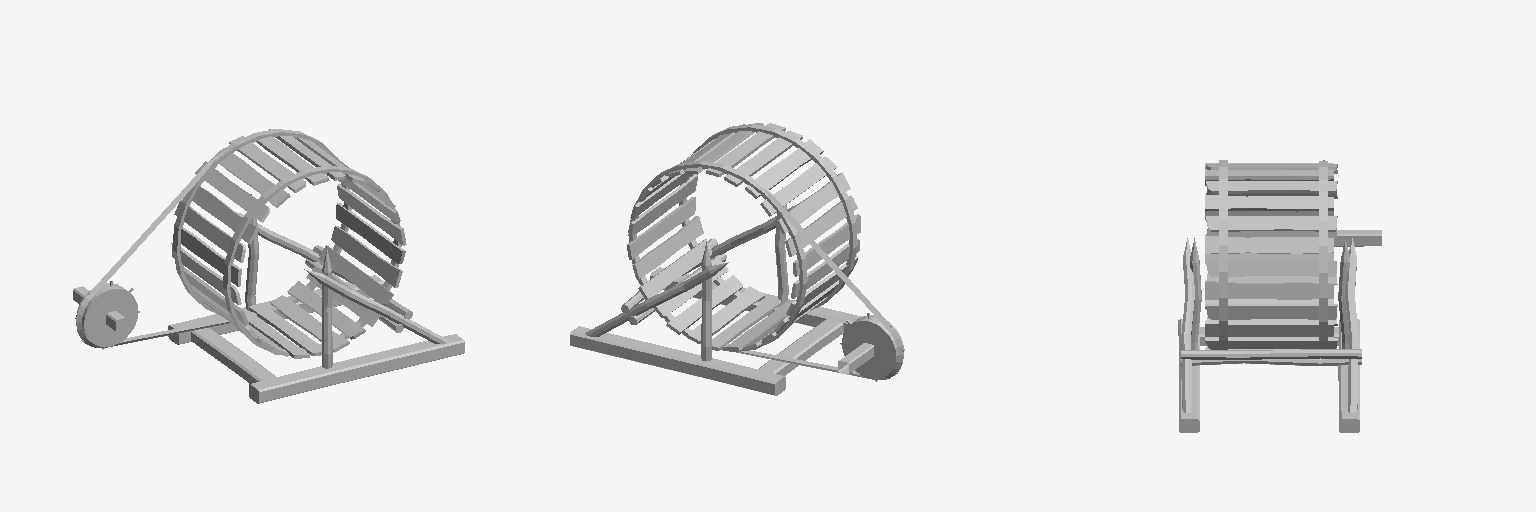
Rendered from hamsterwheel.obj.
3 views of the same model, side by side, from view 1: azimuth 30°, elevation 25°; view 2: azimuth 150°, elevation 25°; view 3: azimuth 270°, elevation 25° (orthographic).
Parts seen in each view (by area): view 1: hamsterwheel; view 2: hamsterwheel; view 3: hamsterwheel.
Boxes of the visible parts, <box> form: hamsterwheel: <box>73,129,464,403</box>; hamsterwheel: <box>570,123,904,395</box>; hamsterwheel: <box>1178,160,1381,432</box>.
Size of the model in its own units: 2920 by 1767 by 1625.